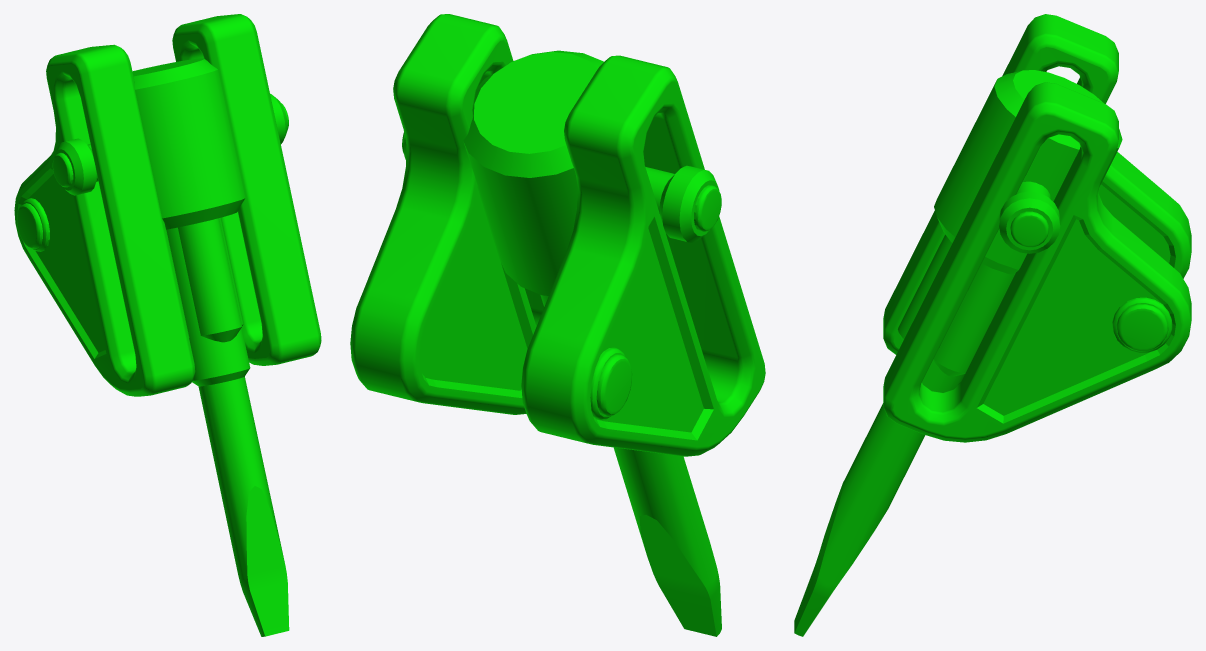
File: Embout_TourneVis.fbx
The picture shows the model from 3 angles, left to right: view 1: azimuth 30°, elevation 25°; view 2: azimuth 150°, elevation 25°; view 3: azimuth 270°, elevation 25°; orthographic projection. The views are drawn at different scales.
Parts seen in each view (by area): view 1: TourneVis; view 2: TourneVis; view 3: TourneVis.
Boxes of the visible parts, x1,y1,x2,y2 form: TourneVis: (14,14,321,636); TourneVis: (350,14,765,636); TourneVis: (794,14,1191,636).
Bounding box in the file's own units: 287 × 642 × 404.
